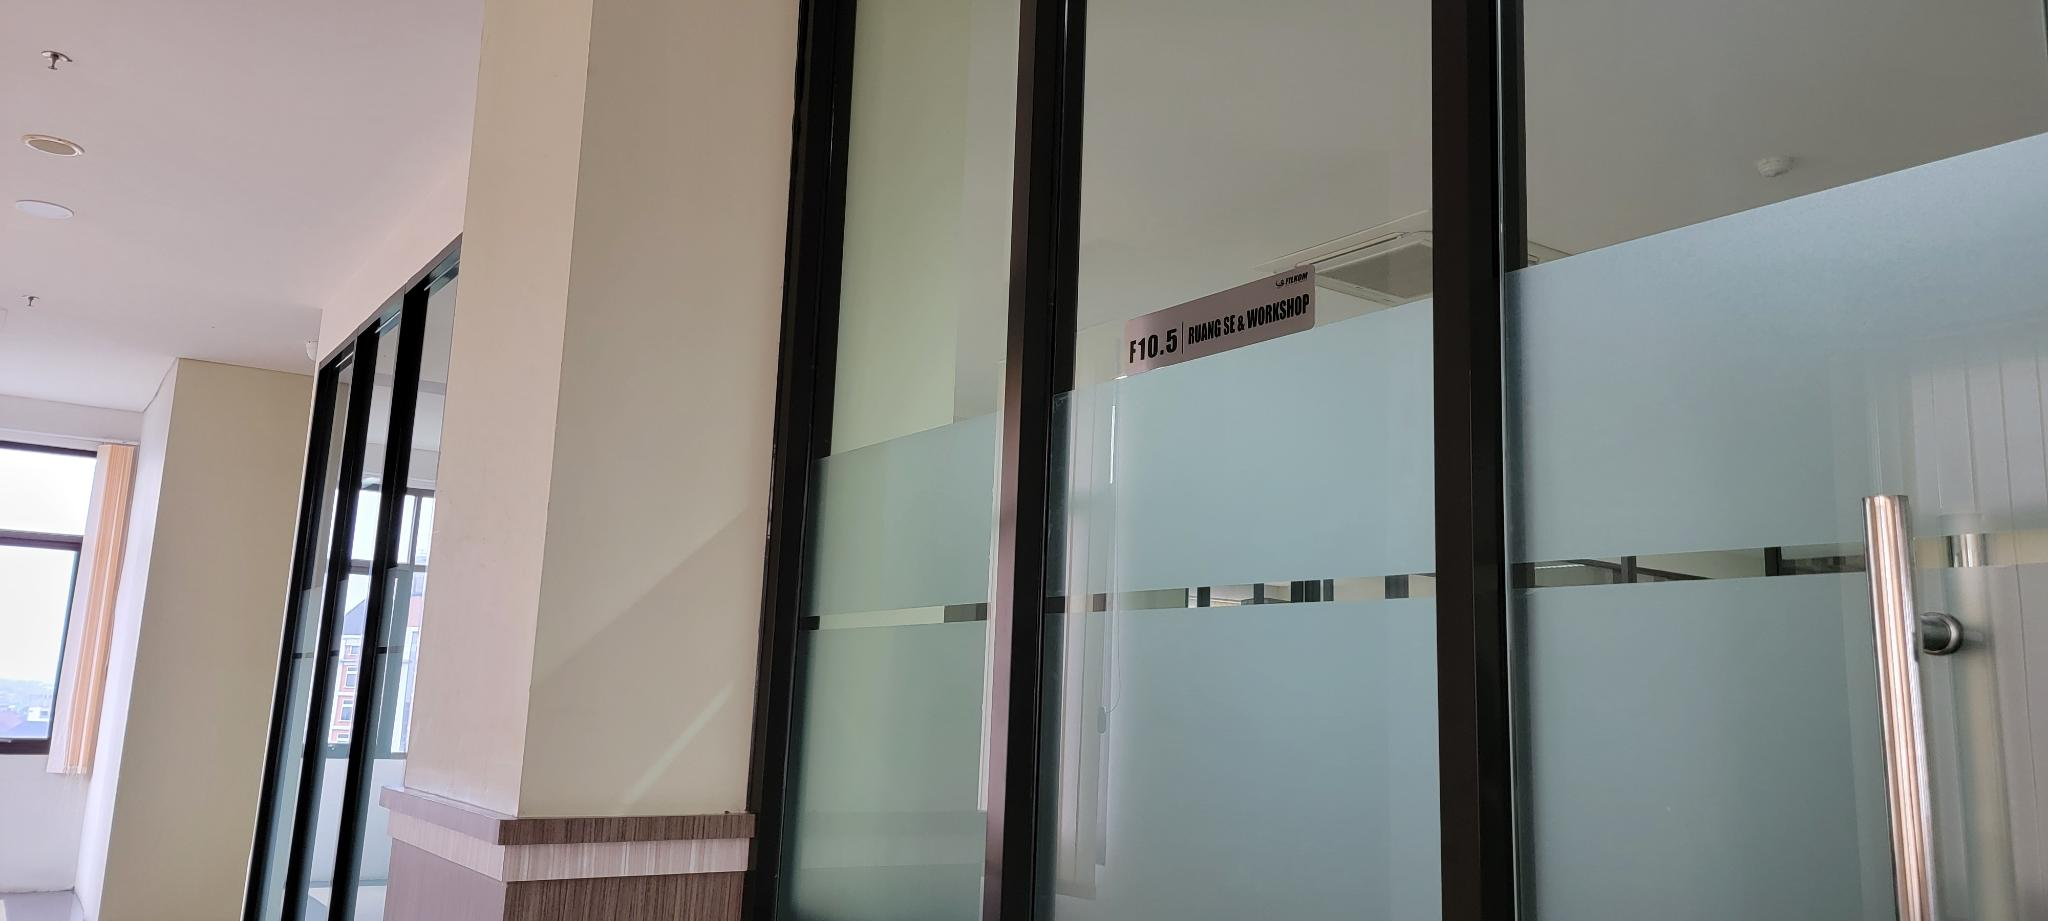plate: (1121, 261, 1317, 380)
